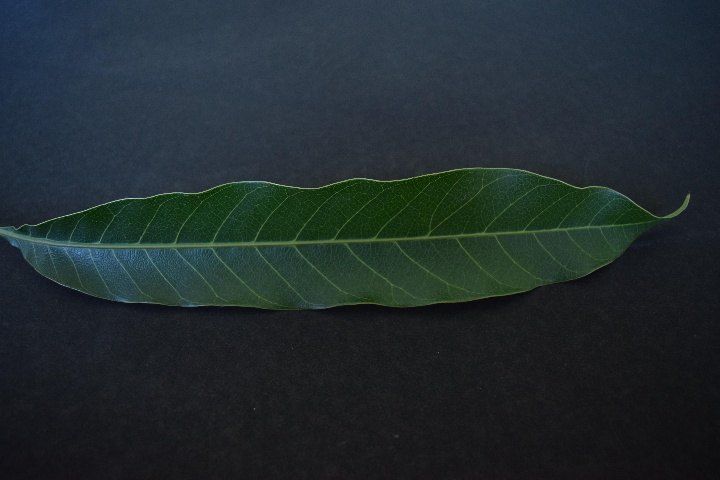healthy: (14, 170, 668, 326)
